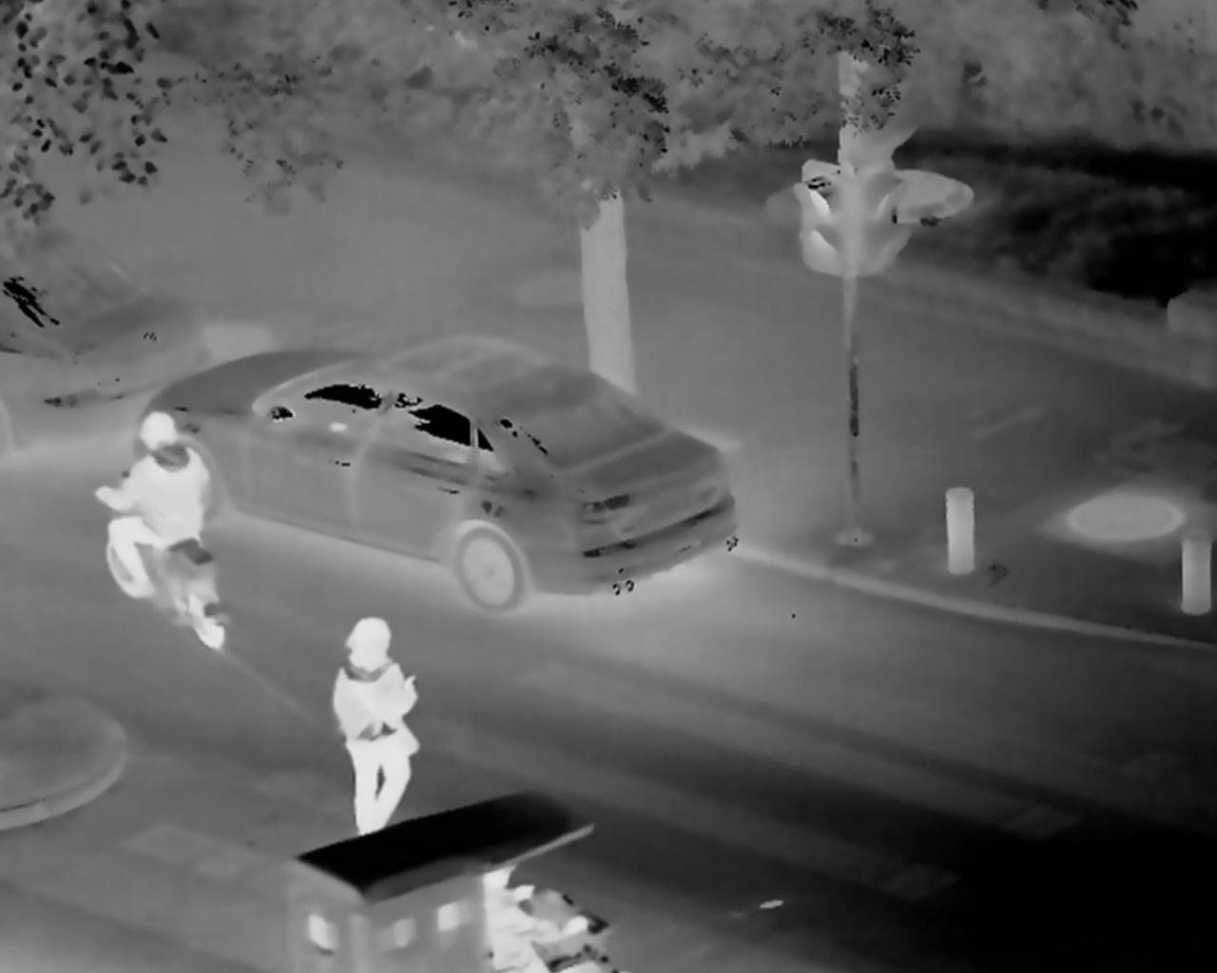person: (91, 412, 213, 607), (326, 619, 419, 838)
